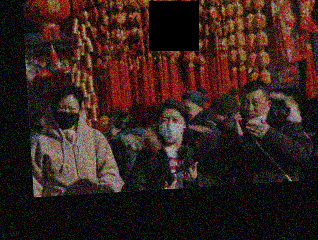mask_weared_incorrect: (241, 93, 267, 125)
with_mask: (52, 99, 80, 129), (159, 114, 185, 143)
without_mask: (211, 108, 226, 125), (107, 122, 120, 139)
